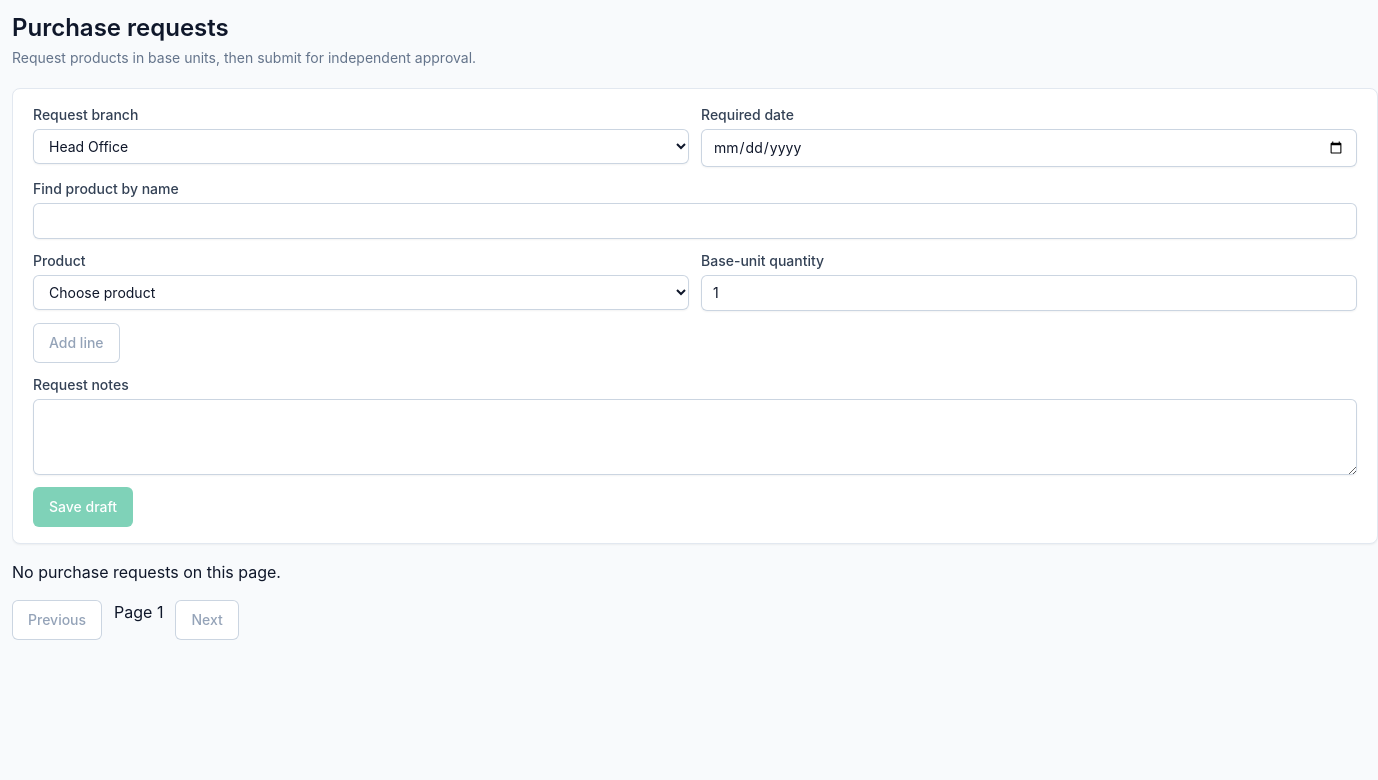
it: saves entered request lines and retains them when persistence fails
Select "Head Office" in the dropdown labelled "Request branch" at (361, 146), box [33,129,689,164]
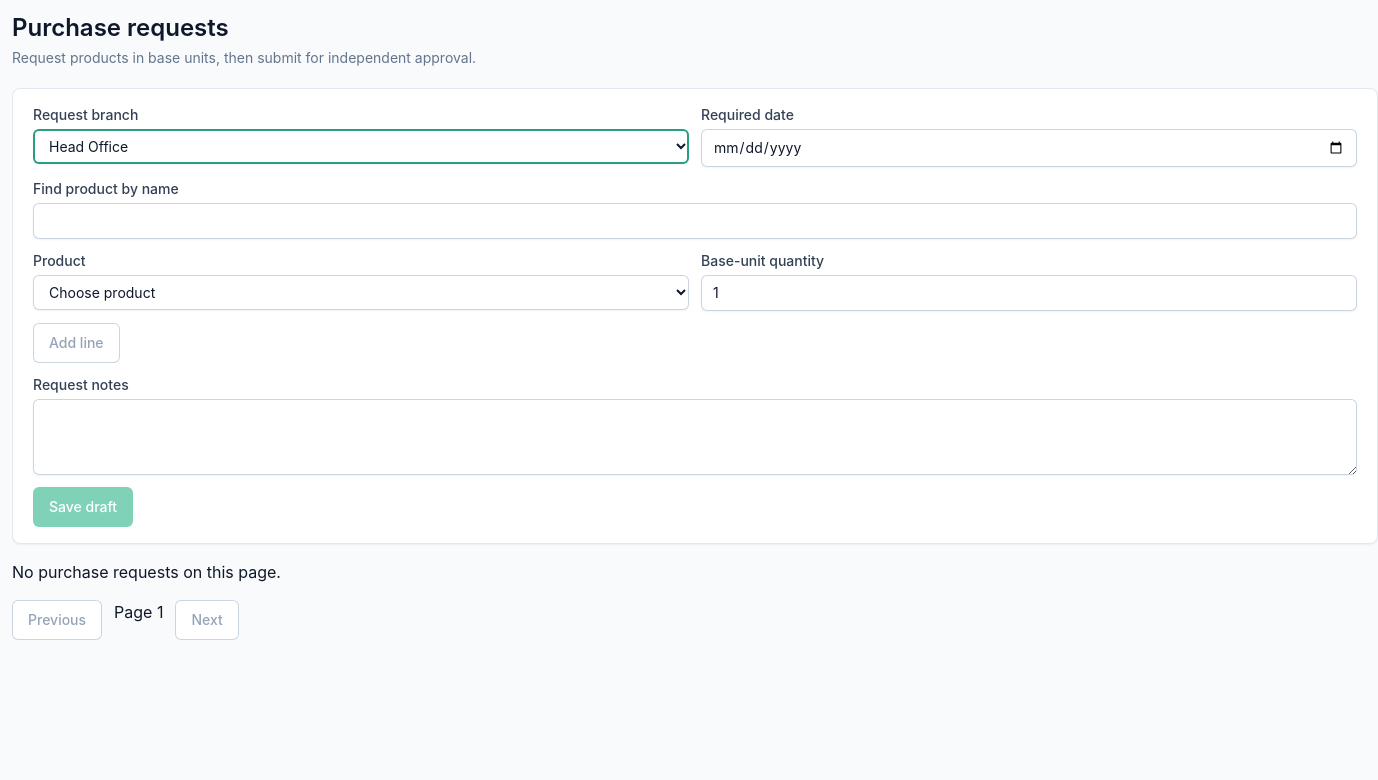
Select "MED / Medicine" in the dropdown labelled "Product" at (361, 292), box [33,275,689,310]
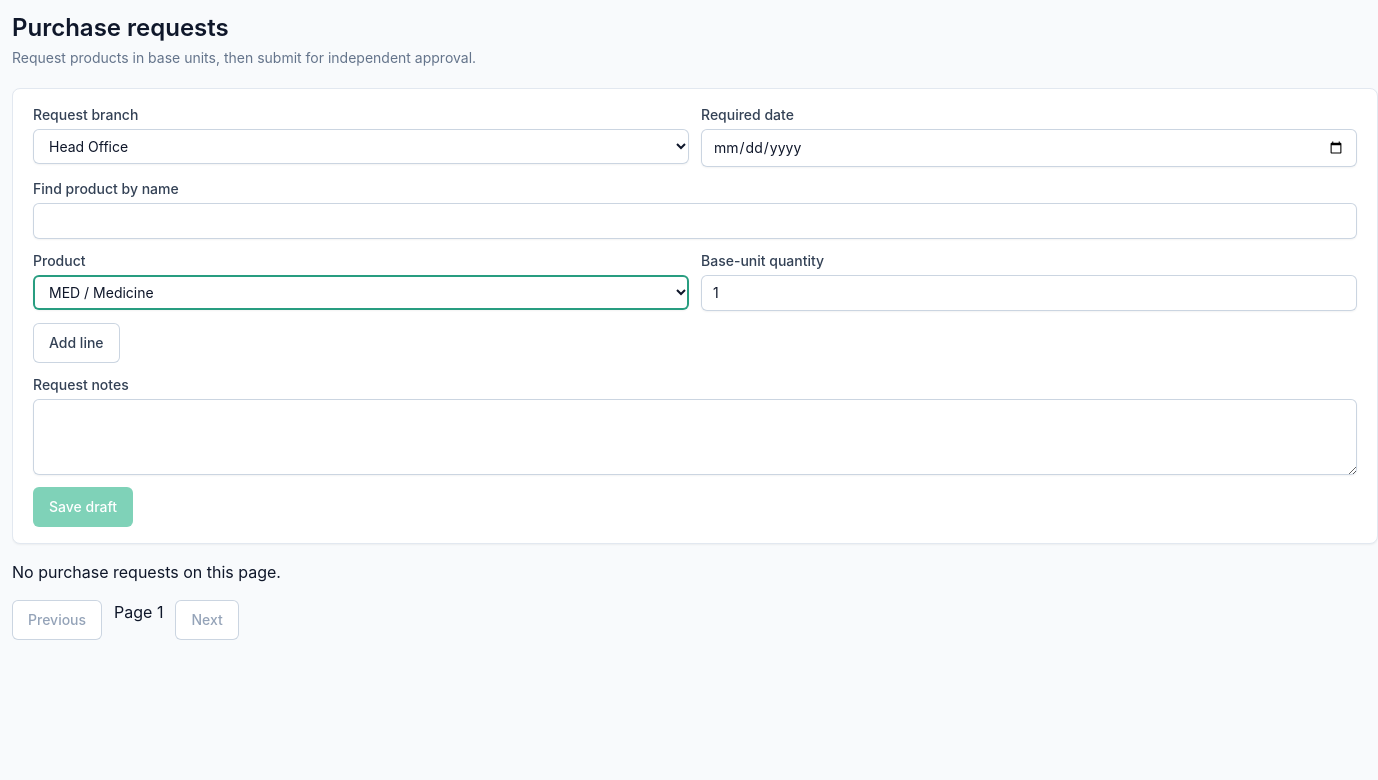
Replace the text in the number field labelled "Base-unit quantity" with "3" at (1029, 293), box [701,275,1357,311]
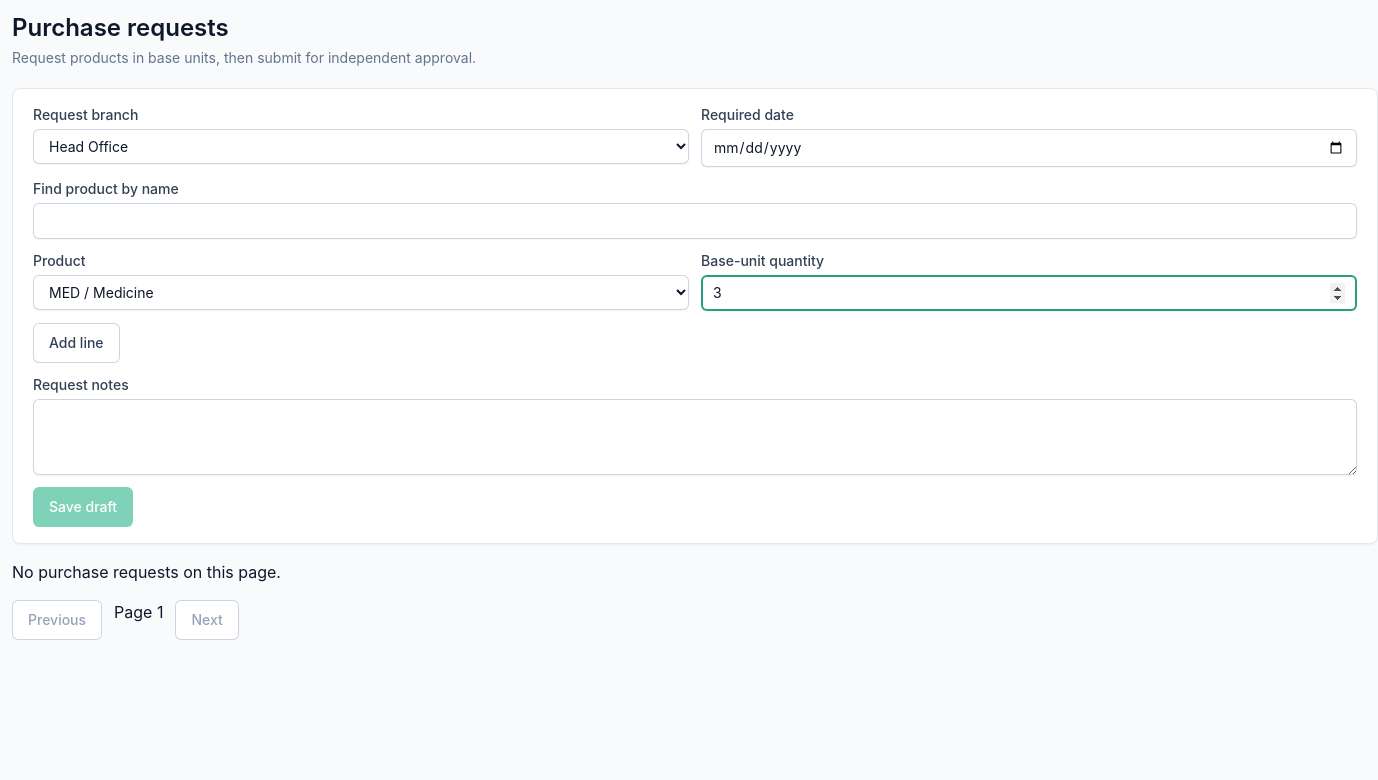
Click the button "Add line".
click(76, 343)  # box [33,323,120,363]
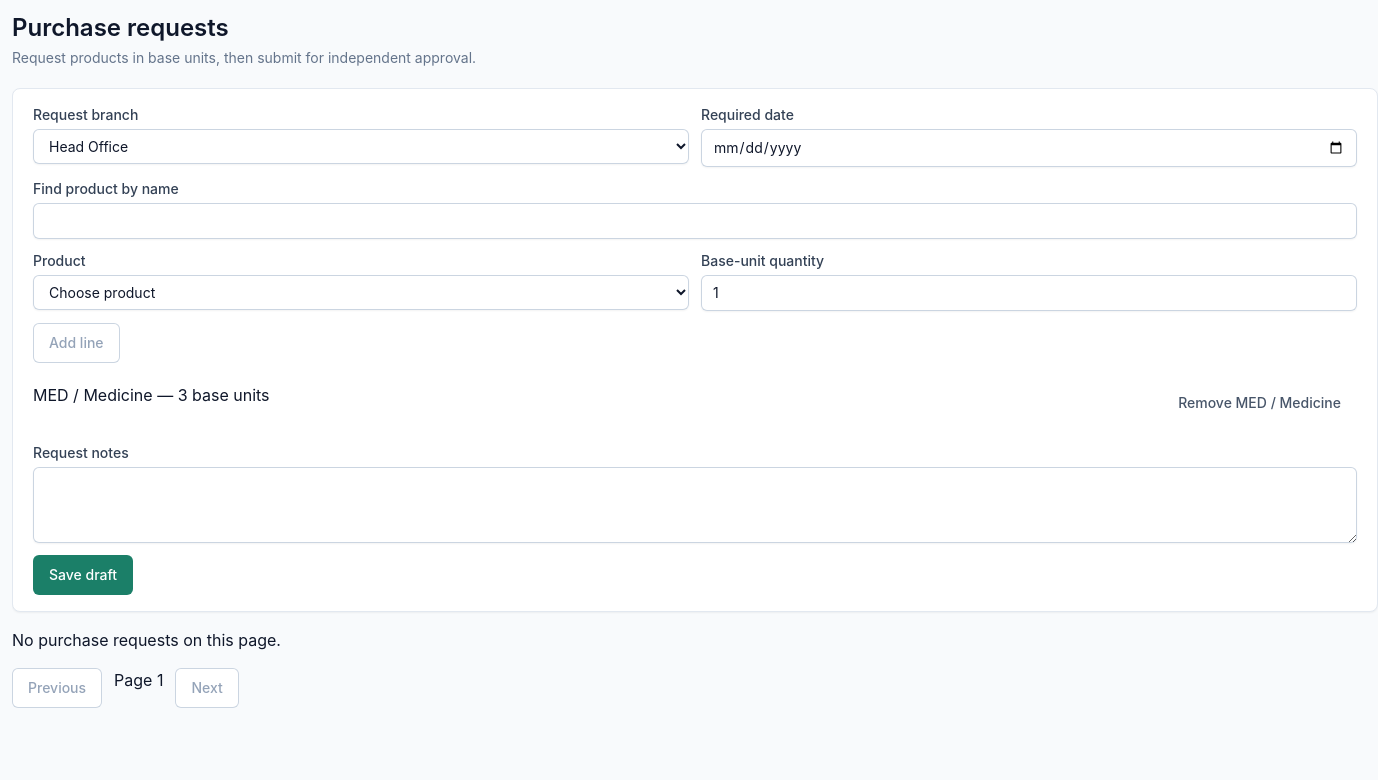
Click the button "Save draft".
click(83, 575)  # box [33,555,133,595]
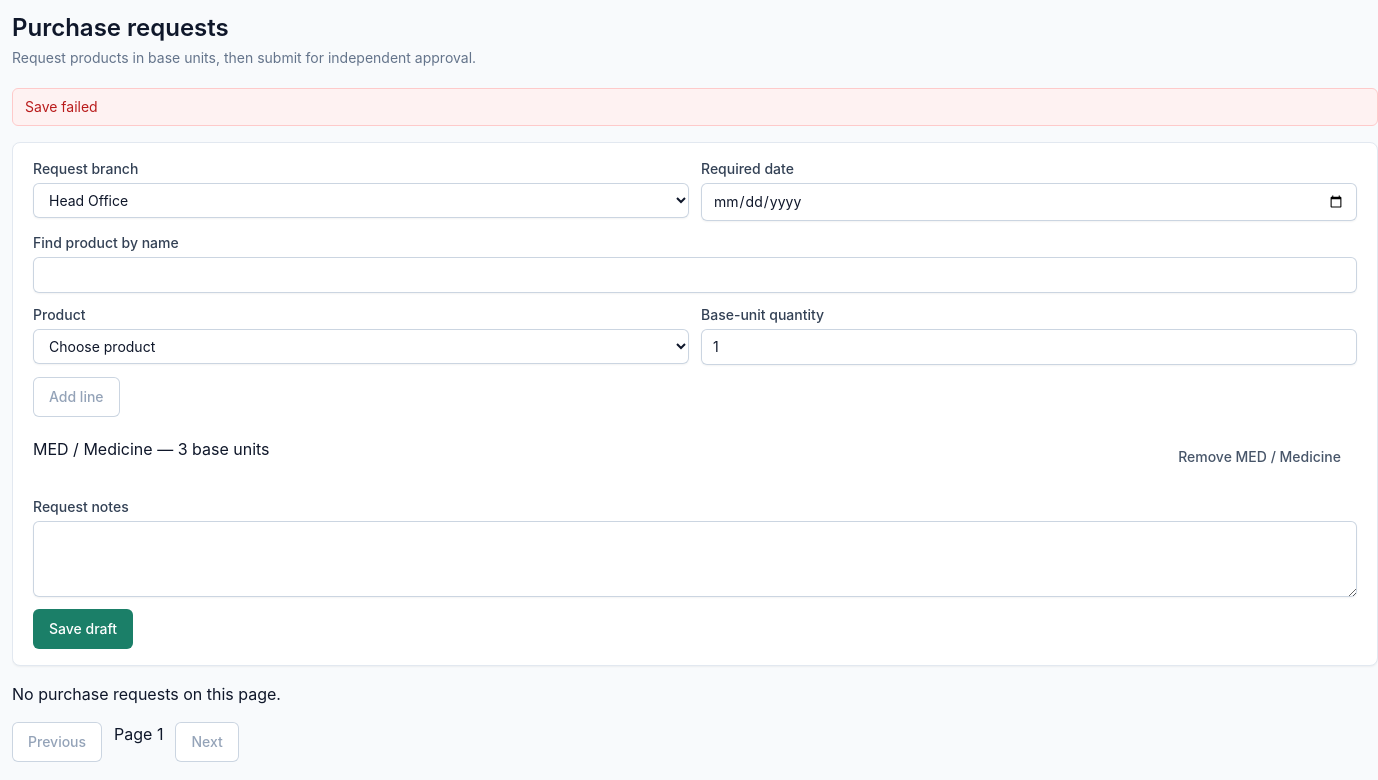
Check: the button "Remove MED / Medicine" is shown, box [1162,437,1357,477]
Check: the button "Save draft" is enabled
Click the button "Save draft".
click(83, 629)  # box [33,609,133,649]
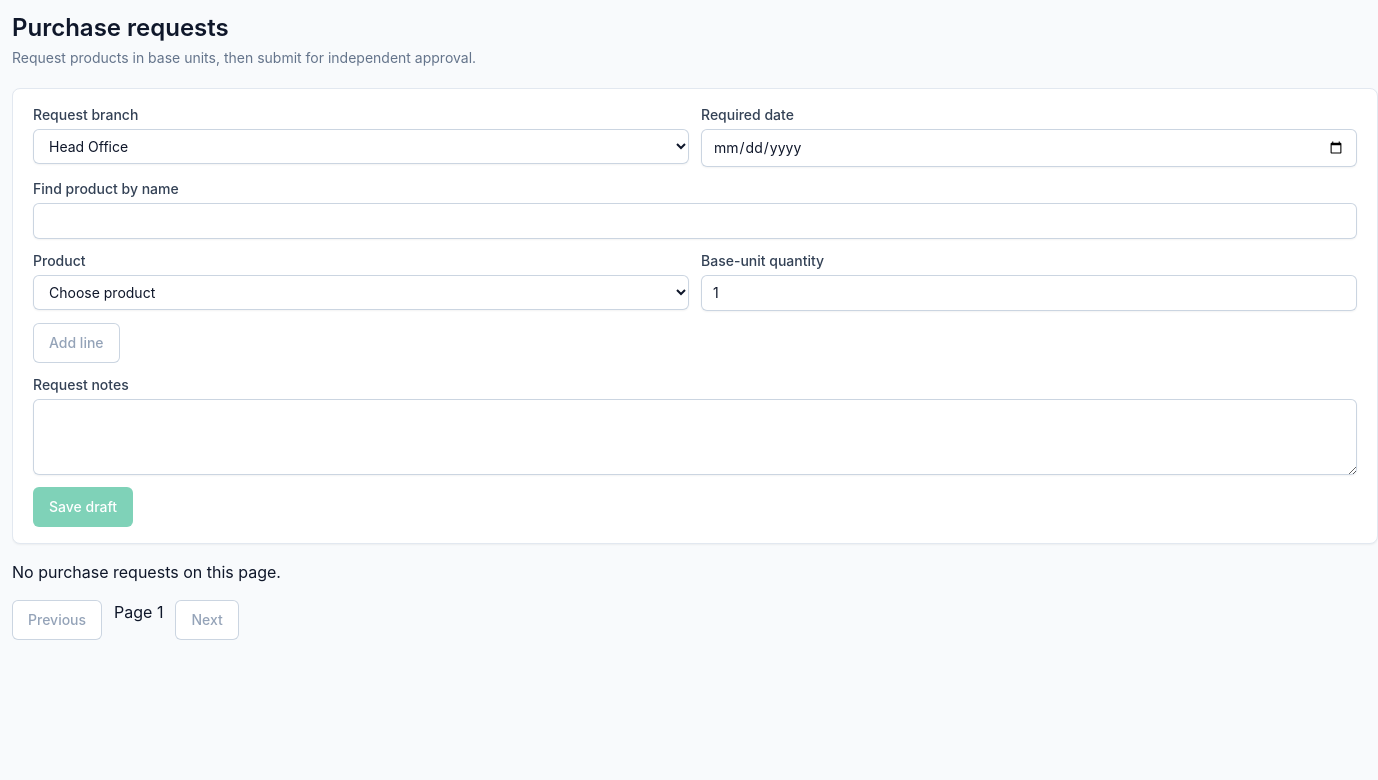
Check: the button "Remove MED / Medicine" is gone
